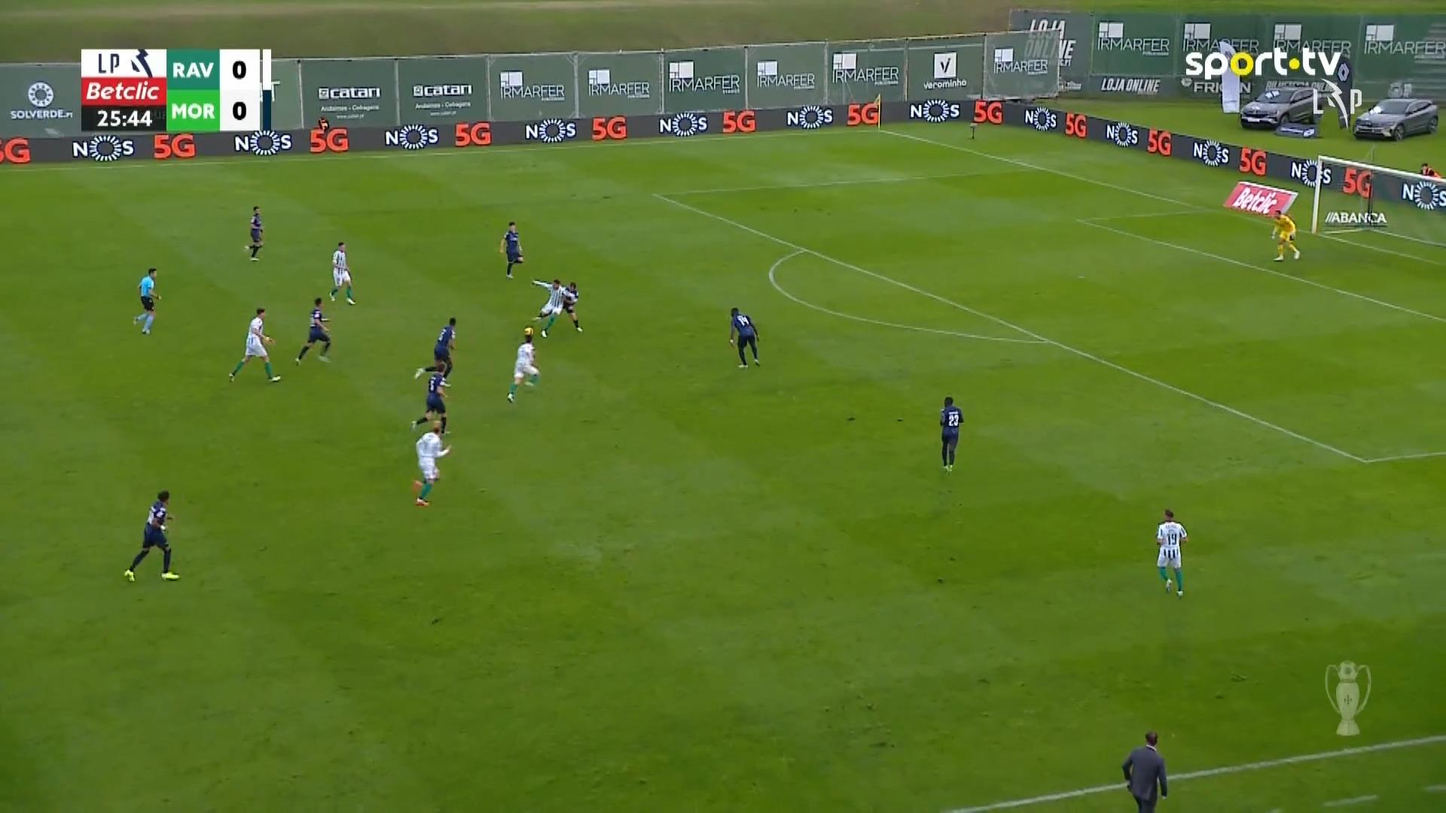ball: (124, 569, 134, 582), (524, 327, 534, 335)
goalkeeper: (1269, 208, 1301, 261)
player: (123, 489, 182, 582), (227, 306, 282, 383), (412, 417, 452, 506), (413, 316, 457, 385), (1155, 507, 1188, 597), (410, 361, 450, 435), (293, 297, 331, 365), (506, 326, 539, 403), (540, 280, 582, 337), (530, 277, 564, 338), (728, 306, 761, 368), (938, 395, 963, 472), (328, 240, 355, 305), (499, 221, 524, 279), (560, 281, 583, 333), (245, 205, 264, 260)
referee: (1121, 729, 1168, 811), (133, 266, 161, 335)
